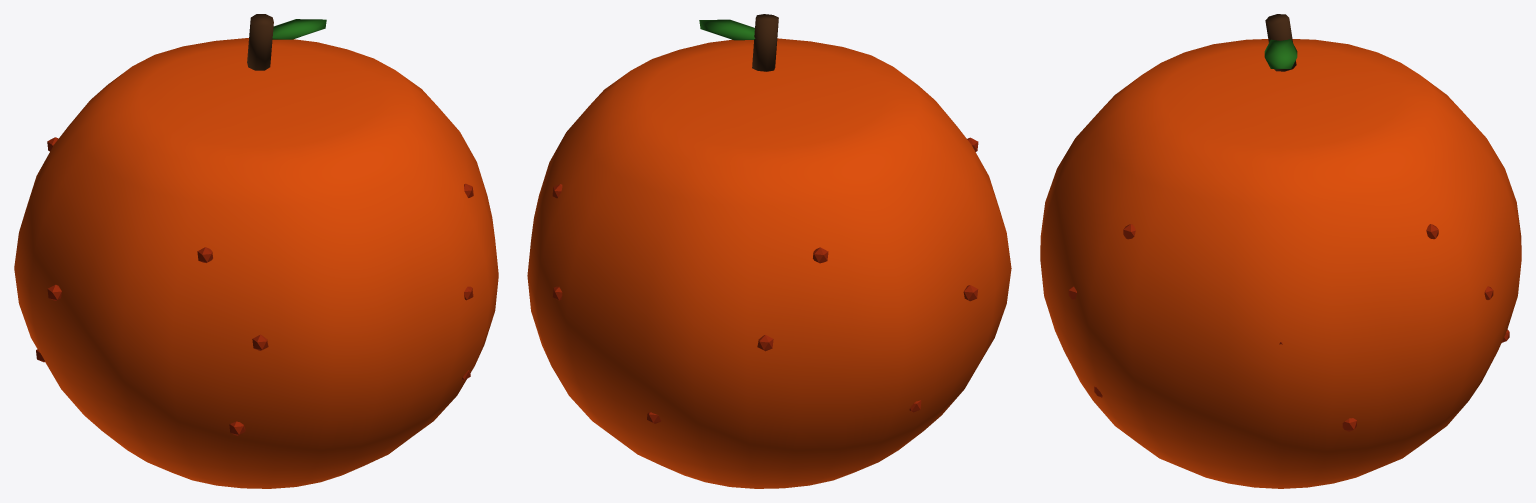
Rendered from orange.glb.
3 views of the same model, side by side, from view 1: azimuth 30°, elevation 25°; view 2: azimuth 150°, elevation 25°; view 3: azimuth 270°, elevation 25° (orthographic).
Visible parts, largest first — view 1: orange; view 2: orange; view 3: orange.
Boxes of the visible parts, <box> form: orange: <box>14,14,498,488</box>; orange: <box>527,14,1011,488</box>; orange: <box>1040,14,1521,488</box>.
Bounding box in the file's own units: 0.9934 × 1 × 0.9738.
1 material, 1 textured.
